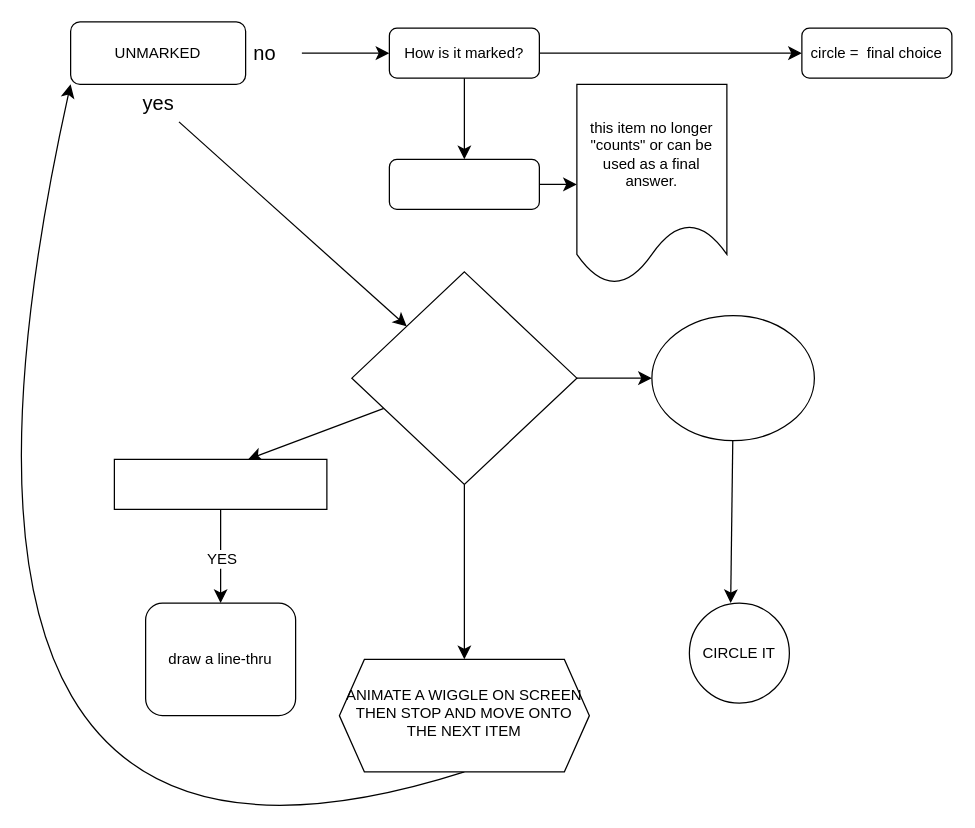
This 975x828 diagram has some shape labels left out. The shapes that lost their labels are listed below. From the top down, each one's box as (x1, y1, x2, y2) in pixels, then its label:
(388, 158, 539, 209): line-thru = deleted
(351, 271, 577, 484): ANIMATE SOMEHOW
(651, 314, 814, 441): IS IT THE LAST ITEM IN THE LIST?
(113, 458, 327, 509): is item = to Magic Number?
